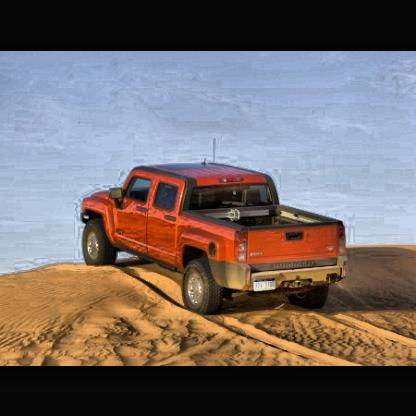HUMMER H3T Crew Cab 2010: (80, 160, 351, 319)
